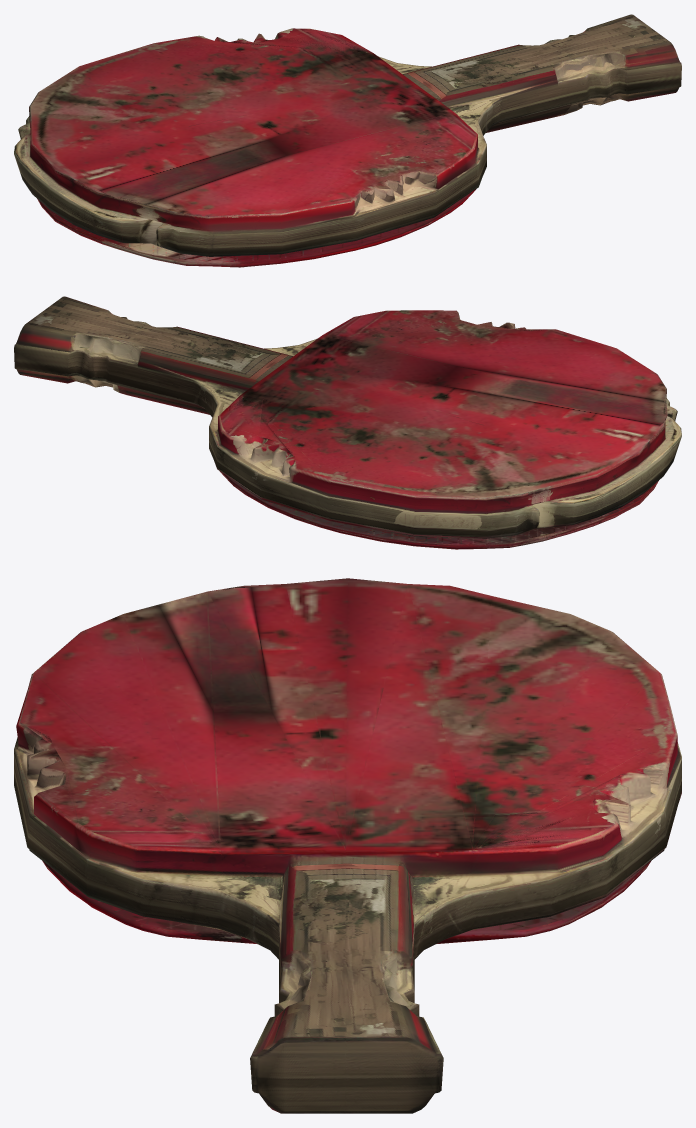
Rendered from item.obj.
The picture shows the model from 3 angles, top to bottom: view 1: azimuth 30°, elevation 25°; view 2: azimuth 150°, elevation 25°; view 3: azimuth 270°, elevation 25°; orthographic projection. The views are drawn at different scales.
Parts seen in each view (by area): view 1: Meshy_AI_Weathered_Red_Ping_Po_0607235238_texture; view 2: Meshy_AI_Weathered_Red_Ping_Po_0607235238_texture; view 3: Meshy_AI_Weathered_Red_Ping_Po_0607235238_texture.
Boxes of the visible parts, x1=… form: Meshy_AI_Weathered_Red_Ping_Po_0607235238_texture: x1=14, y1=14, x2=681, y2=267; Meshy_AI_Weathered_Red_Ping_Po_0607235238_texture: x1=14, y1=296, x2=681, y2=549; Meshy_AI_Weathered_Red_Ping_Po_0607235238_texture: x1=14, y1=578, x2=681, y2=1113.
Size of the model in its own units: 1.91 by 0.18 by 1.17.
1 material, 1 textured.
